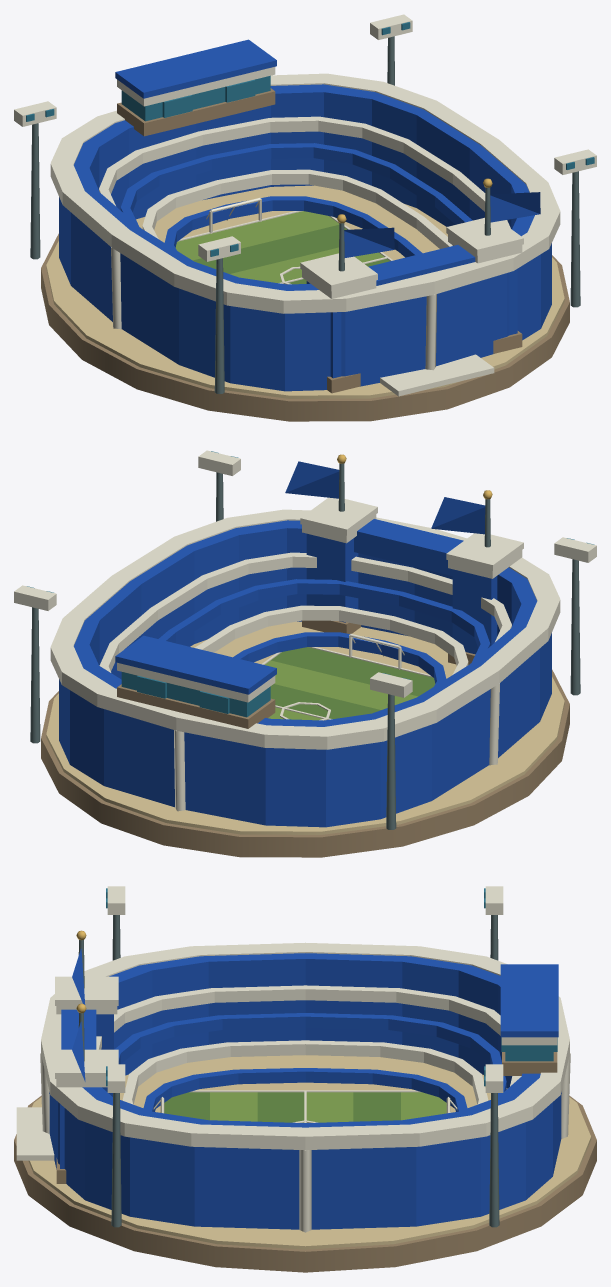
Rendered from main-stadium-lv3.glb.
The picture shows the model from 3 angles, top to bottom: view 1: azimuth 30°, elevation 25°; view 2: azimuth 150°, elevation 25°; view 3: azimuth 270°, elevation 25°; orthographic projection. The views are drawn at different scales.
Visible parts, largest first — view 1: stadium_shell_royal, upper_concourse_white, foundation_stoneDark, foundation_sand, seating_white, seating_royal, media_box_roof_royal, pitch_grassLight, lighting_iron, entrance_pylons_roof_white, pitch_grass, lighting_white (+14 smaller); view 2: stadium_shell_royal, upper_concourse_white, foundation_stoneDark, foundation_sand, seating_white, seating_royal, entrance_pylons_royal, media_box_roof_royal, pitch_grass, lighting_iron, entrance_pylons_roof_white, entrance_bridge_royal (+12 smaller); view 3: stadium_shell_royal, upper_concourse_white, foundation_sand, foundation_stoneDark, seating_white, seating_royal, media_box_roof_royal, pitch_grassLight, pitch_grass, entrance_pylons_roof_white, lighting_iron, lighting_white (+10 smaller).
Part boxes in pixels (box(x1,y1,x2,y2)): stadium_shell_royal: box(59, 84, 551, 391); upper_concourse_white: box(50, 73, 560, 313); foundation_stoneDark: box(41, 233, 569, 421); foundation_sand: box(46, 185, 564, 398); seating_white: box(99, 116, 510, 248); seating_royal: box(120, 143, 472, 257); media_box_roof_royal: box(115, 39, 276, 98); pitch_grassLight: box(175, 211, 384, 282); lighting_iron: box(30, 36, 580, 393); entrance_pylons_roof_white: box(300, 217, 523, 291); pitch_grass: box(193, 225, 389, 284); lighting_white: box(14, 14, 596, 261); stadium_shell_royal: box(59, 520, 551, 827); upper_concourse_white: box(50, 509, 560, 749); foundation_stoneDark: box(41, 669, 569, 857); foundation_sand: box(46, 621, 564, 834); seating_white: box(99, 552, 511, 674); seating_royal: box(158, 579, 490, 686); entrance_pylons_royal: box(306, 533, 497, 654); media_box_roof_royal: box(115, 635, 276, 694); pitch_grass: box(270, 647, 435, 718); lighting_iron: box(30, 472, 580, 829); entrance_pylons_roof_white: box(300, 497, 523, 570); entrance_bridge_royal: box(354, 519, 463, 575); stadium_shell_royal: box(49, 953, 561, 1229); upper_concourse_white: box(41, 942, 569, 1150); foundation_sand: box(28, 1055, 591, 1249); foundation_stoneDark: box(14, 1095, 596, 1272); seating_white: box(96, 985, 521, 1104); seating_royal: box(114, 1013, 506, 1111); media_box_roof_royal: box(500, 964, 558, 1037); pitch_grassLight: box(210, 1092, 446, 1122); pitch_grass: box(164, 1092, 400, 1122); entrance_pylons_roof_white: box(55, 976, 118, 1078); lighting_iron: box(111, 915, 499, 1227); lighting_white: box(107, 886, 503, 1092).
Size of the model in its own units: 0.9074 by 0.3662 by 1.
